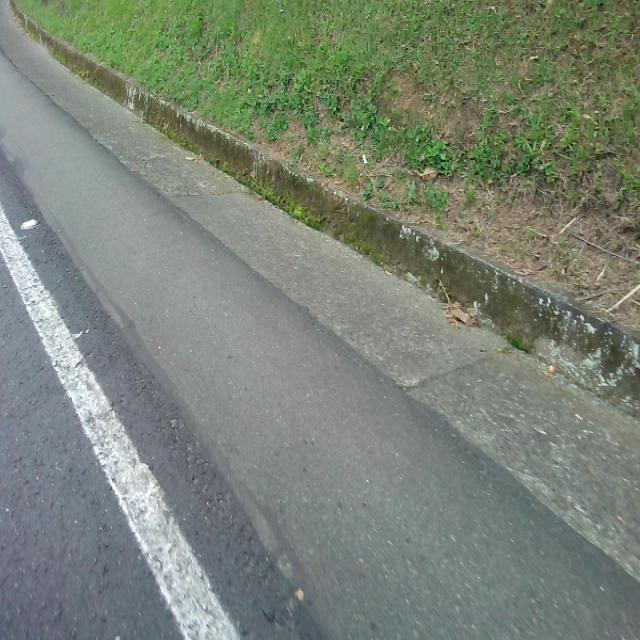DITCH: (1, 3, 638, 637), (1, 6, 638, 638)
